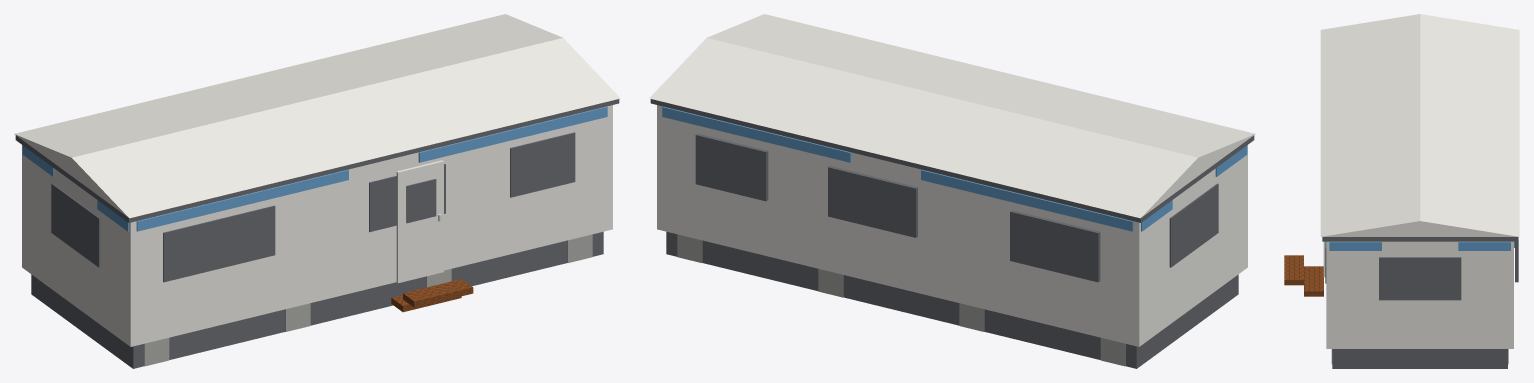
The model's file is caravan-park-and-campsite-static-caravan-f2af6369__35342.glb.
The picture shows the model from 3 angles, left to right: view 1: azimuth 30°, elevation 25°; view 2: azimuth 150°, elevation 25°; view 3: azimuth 270°, elevation 25°; orthographic projection. The views are drawn at different scales.
Visible parts, largest first — view 1: static-caravan-shell, static-caravan-charcoal, static-caravan-azure, door/shell, static-caravan-hard, static-caravan-timber, door/charcoal; view 2: static-caravan-shell, static-caravan-charcoal, static-caravan-azure, static-caravan-hard; view 3: static-caravan-shell, static-caravan-charcoal, static-caravan-timber, static-caravan-azure.
Part boxes in pixels (x1,y1,x2,y2): static-caravan-shell: [14, 14, 620, 346]; static-caravan-charcoal: [15, 99, 619, 368]; static-caravan-azure: [22, 106, 607, 231]; door/shell: [396, 160, 443, 283]; static-caravan-hard: [144, 234, 592, 366]; static-caravan-timber: [391, 279, 473, 312]; door/charcoal: [406, 179, 436, 223]; static-caravan-shell: [649, 14, 1255, 346]; static-caravan-charcoal: [650, 99, 1254, 368]; static-caravan-azure: [662, 106, 1247, 231]; static-caravan-hard: [677, 234, 1125, 366]; static-caravan-shell: [1320, 14, 1519, 348]; static-caravan-charcoal: [1322, 237, 1518, 368]; static-caravan-timber: [1284, 255, 1323, 296]; static-caravan-azure: [1325, 241, 1514, 250].
Size of the model in its own units: 8.36 by 2.87 by 4.02.
6 materials, 2 textured.
